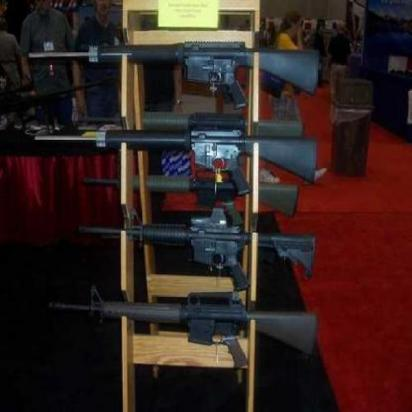Gun: (21, 29, 341, 110), (32, 111, 326, 192), (39, 280, 340, 356), (78, 210, 328, 279)
